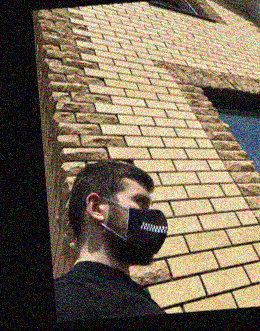with_mask: (121, 183, 168, 266)
